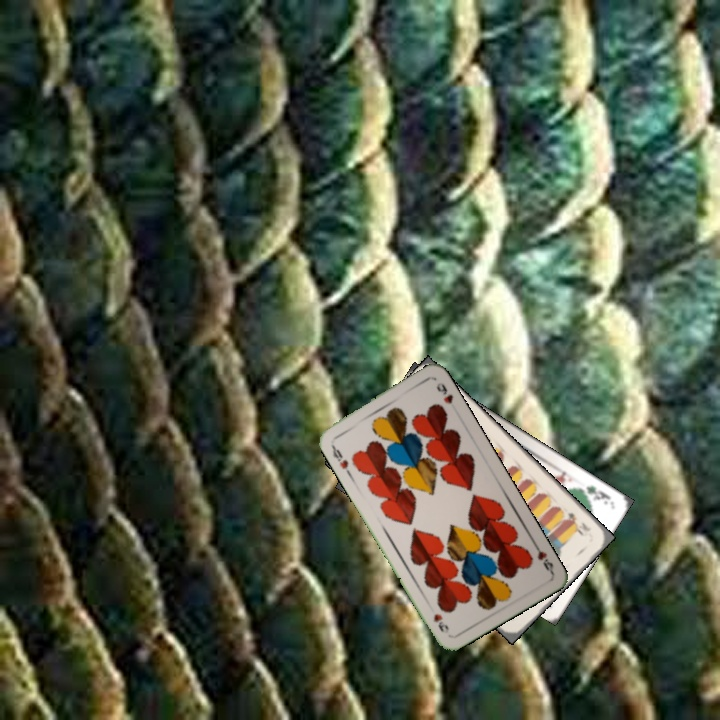E10: (563, 508, 594, 537)
GK: (575, 481, 614, 507)
H9: (529, 538, 556, 575), (327, 440, 353, 477)
